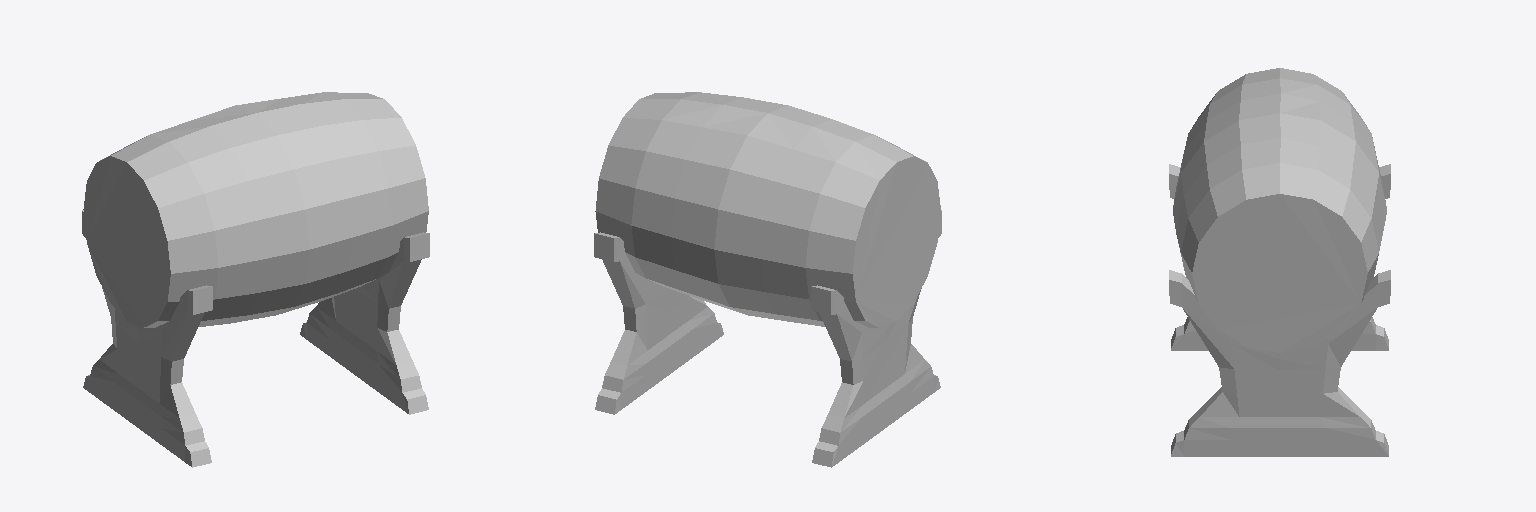
Rendered from Klong that.obj.
The picture shows the model from 3 angles: view 1: azimuth 30°, elevation 25°; view 2: azimuth 150°, elevation 25°; view 3: azimuth 270°, elevation 25°; orthographic projection.
Parts seen in each view (by area): view 1: _Tapon.001; view 2: _Tapon.001; view 3: _Tapon.001.
Boxes of the visible parts, <box> form: _Tapon.001: <box>82,92,429,467</box>; _Tapon.001: <box>594,92,941,467</box>; _Tapon.001: <box>1169,68,1390,456</box>.
Bounding box in the file's own units: 2.94 × 3.11 × 2.18.